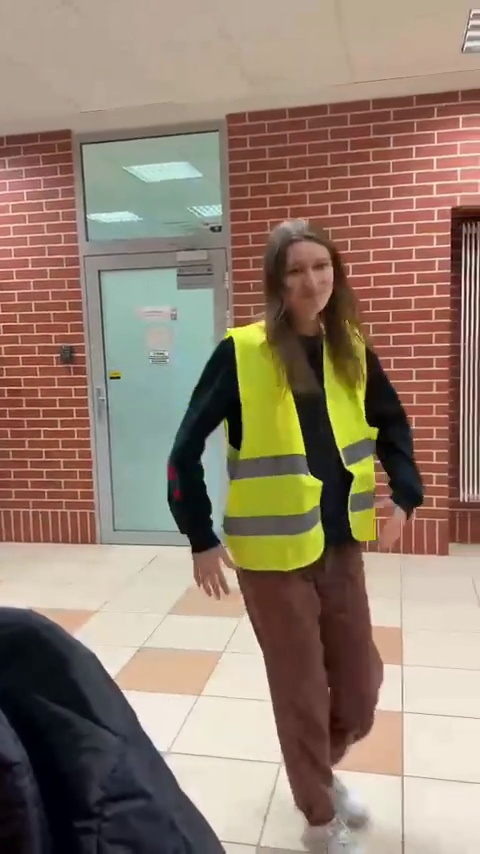vest: (196, 220, 428, 846)
